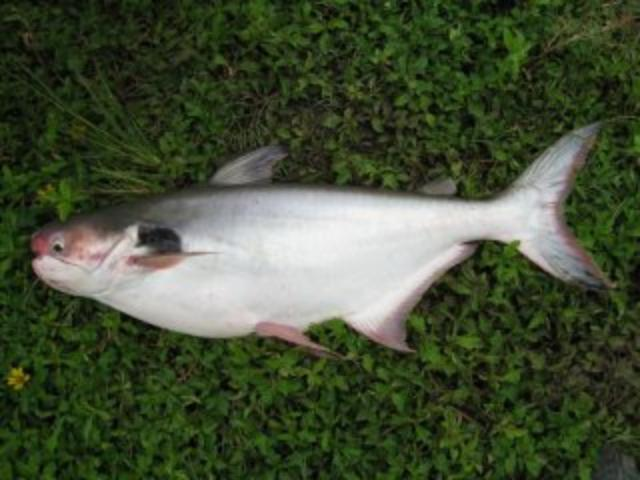Mulut: (19, 222, 73, 294)
Sirip Anal: (342, 236, 500, 362)
Sirip Dada: (125, 238, 222, 286)
Sirip Ekor: (510, 114, 626, 302)
Sirip Perut: (245, 320, 348, 364)
Sirip Punggung: (210, 136, 300, 198)
